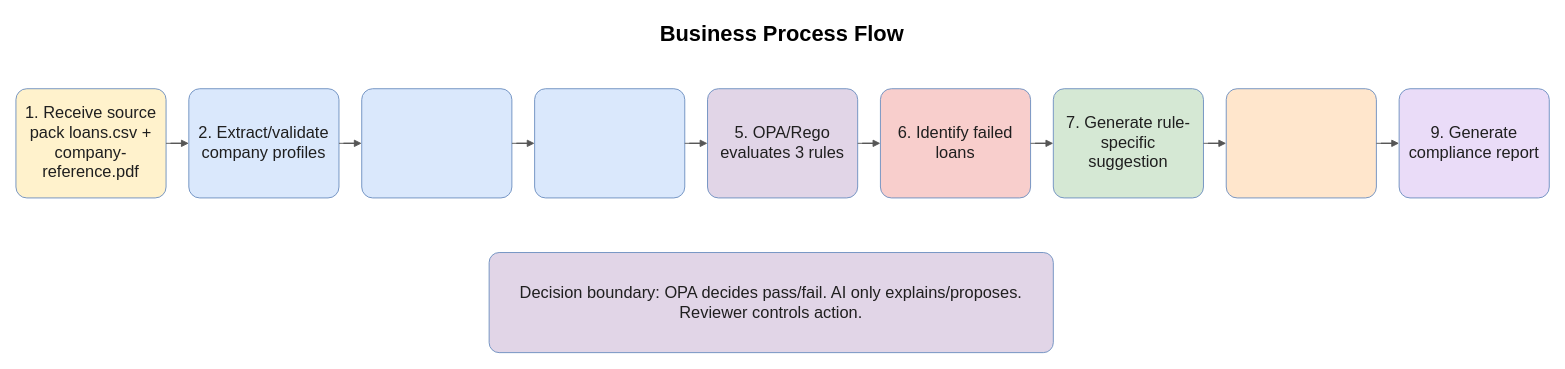
Image size: 1565x369. Some labels were removed from this diagram. The box of each missing label's shape, as (x1, y1, x2, y2) in pixels:
3. Load and validate loan data: (361, 88, 512, 198)
4. Enrich loans FX + expected currency: (534, 88, 685, 198)
8. Reviewer chooses action: (1225, 88, 1376, 198)
